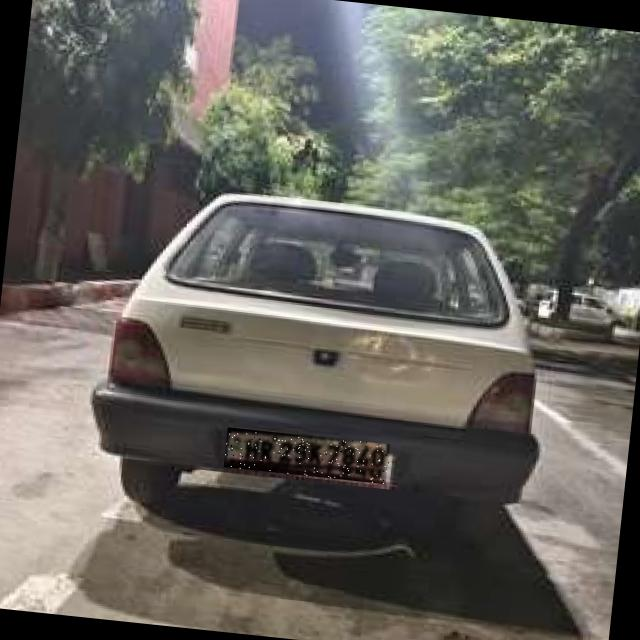Plate: (225, 428, 392, 485)
